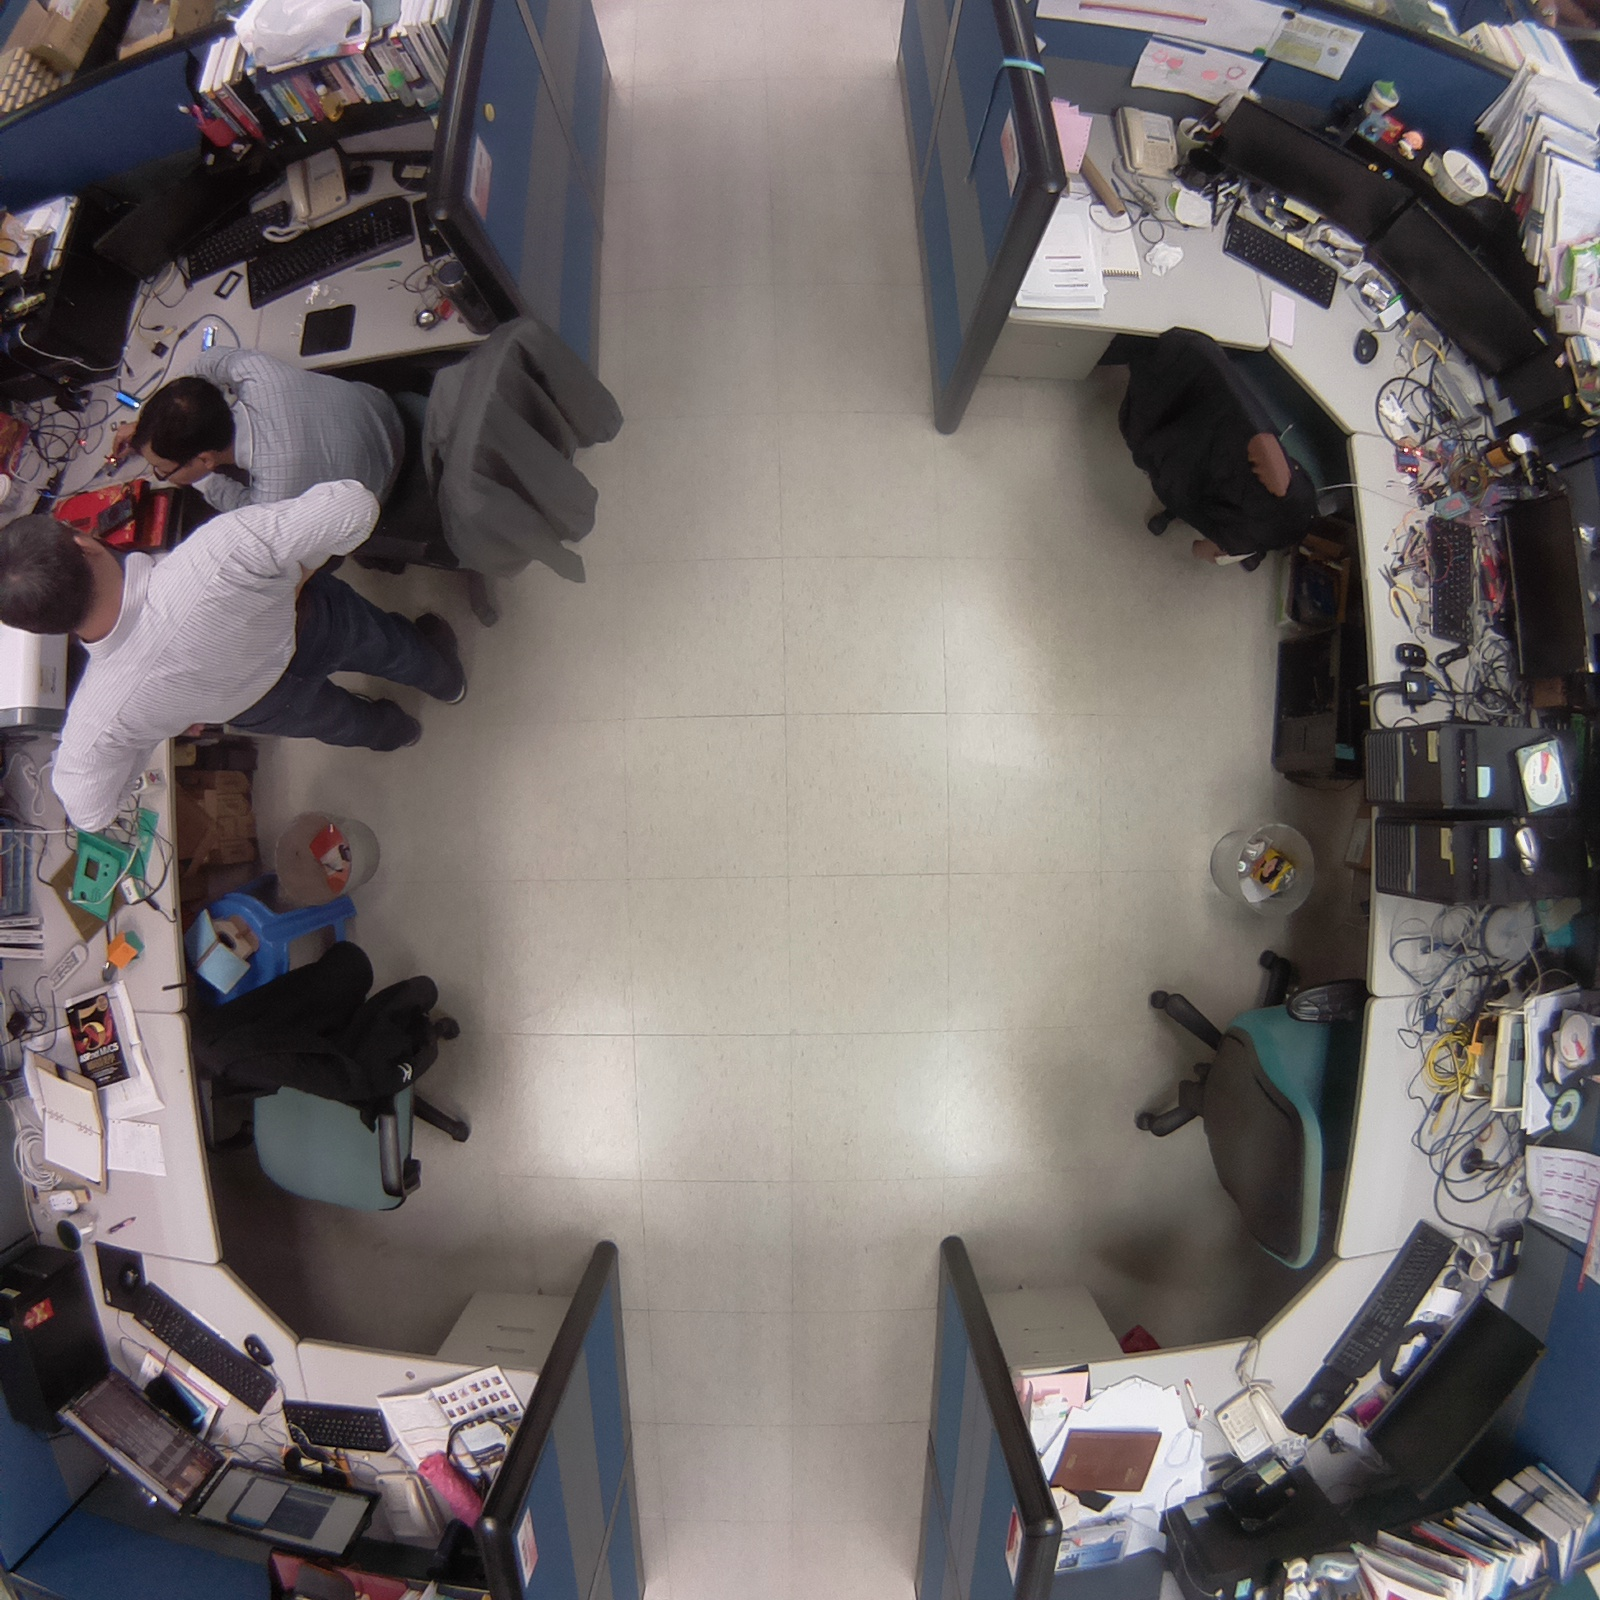chair: (1122, 929, 1386, 1288), (181, 937, 491, 1237), (1096, 306, 1368, 593)
head: (1, 506, 108, 645), (121, 372, 238, 495)
sitting: (113, 288, 637, 624)
standing: (6, 468, 494, 809)
